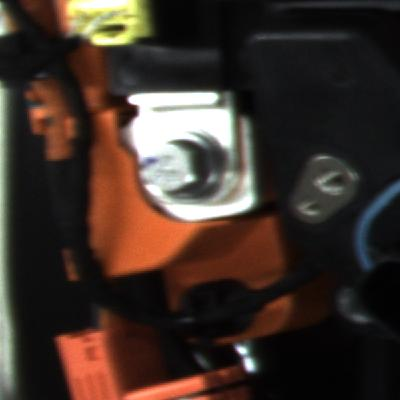nut_b: (142, 135, 235, 212)
